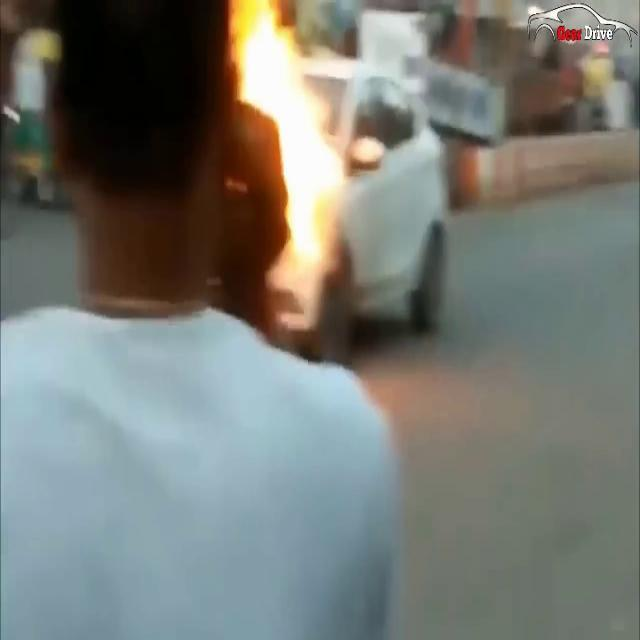Fire: (222, 1, 346, 277)
